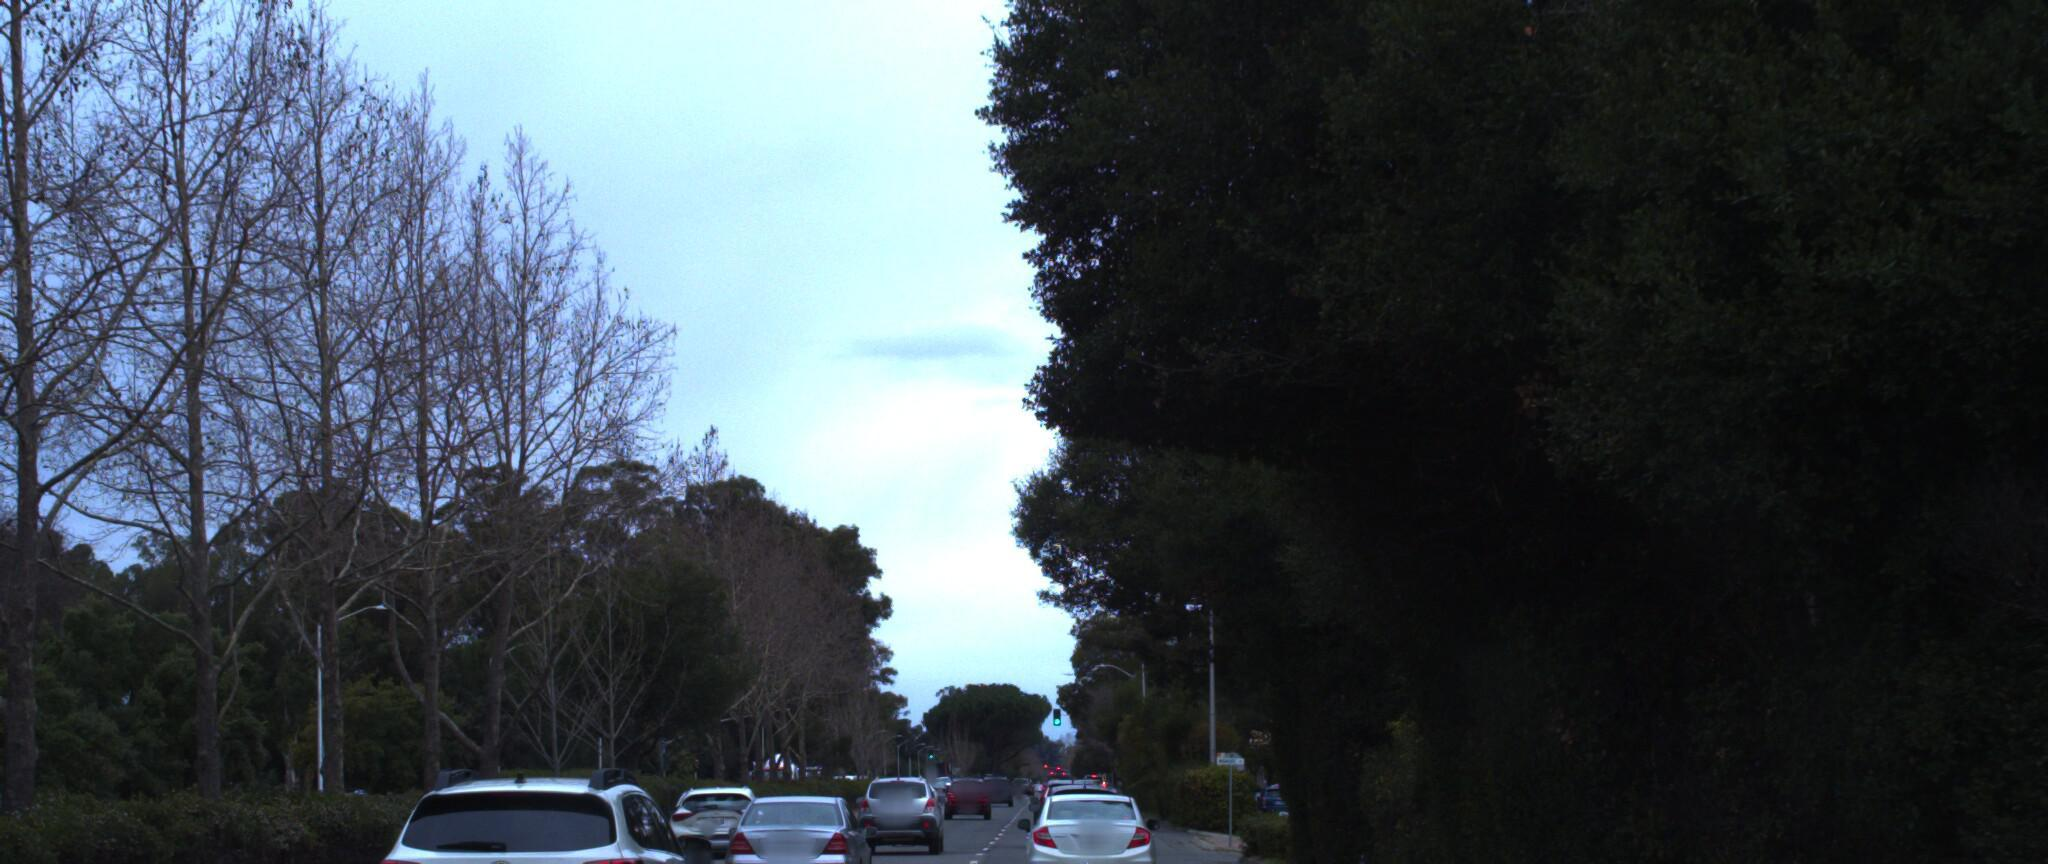car: (344, 747, 744, 864), (714, 783, 886, 864), (1015, 779, 1149, 864), (664, 777, 772, 864), (848, 757, 938, 847)
